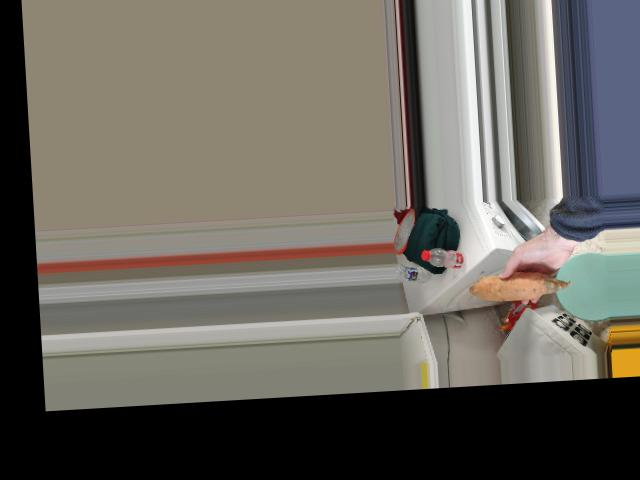sweet_potato: (482, 271, 557, 297)
